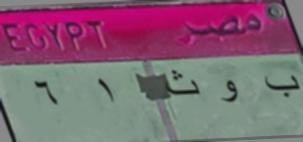1: (92, 75, 125, 109)
6: (31, 72, 66, 114)
baa: (264, 66, 301, 109)
thaa: (163, 67, 201, 104)
waw: (213, 75, 244, 108)
